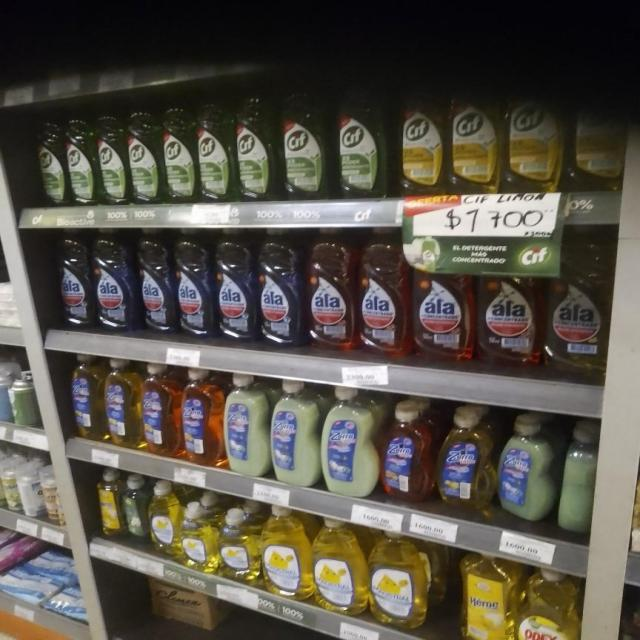ala_conc_amarillo: (546, 263, 613, 379)
ala_conc_azul: (258, 228, 302, 349), (215, 228, 255, 346), (93, 226, 134, 334), (136, 227, 174, 339), (175, 227, 212, 341), (54, 227, 92, 331)
ala_conc_rojo: (412, 248, 474, 364), (357, 225, 410, 359), (477, 268, 542, 368), (305, 227, 355, 354)
cif_conc_bot_amarilla: (503, 98, 561, 193), (565, 102, 626, 192), (394, 92, 446, 197), (448, 94, 498, 194)
cif_conc_botella_verde: (333, 88, 390, 200), (280, 90, 330, 202), (235, 94, 277, 204), (196, 100, 233, 204), (162, 104, 195, 205), (128, 107, 160, 206), (35, 114, 66, 208), (97, 110, 126, 207), (67, 111, 95, 208)
heroe: (459, 550, 517, 640)
magistral_con_amarillo: (369, 529, 430, 629), (313, 516, 366, 616), (261, 505, 311, 600), (218, 507, 258, 583), (180, 502, 216, 572), (149, 481, 178, 558)
odex: (519, 566, 579, 640), (614, 606, 640, 640)
zorro: (321, 385, 378, 497), (496, 413, 554, 523), (437, 407, 492, 510), (270, 378, 318, 487), (381, 400, 432, 502), (224, 372, 268, 477), (181, 367, 222, 467), (142, 363, 178, 458)
